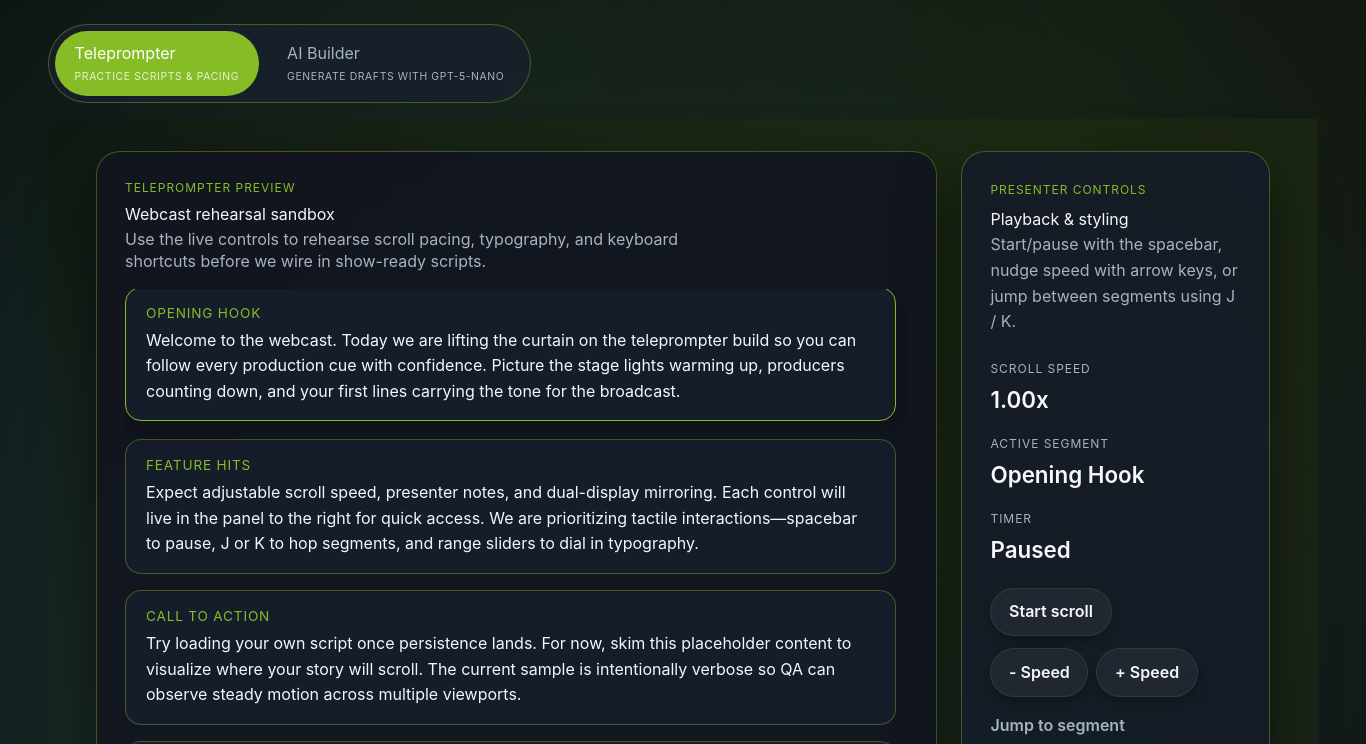
Test: App › toggles playback visual state via the start button
Click the button "Start scroll": (1051, 612) x1=990 y1=588 x2=1112 y2=636
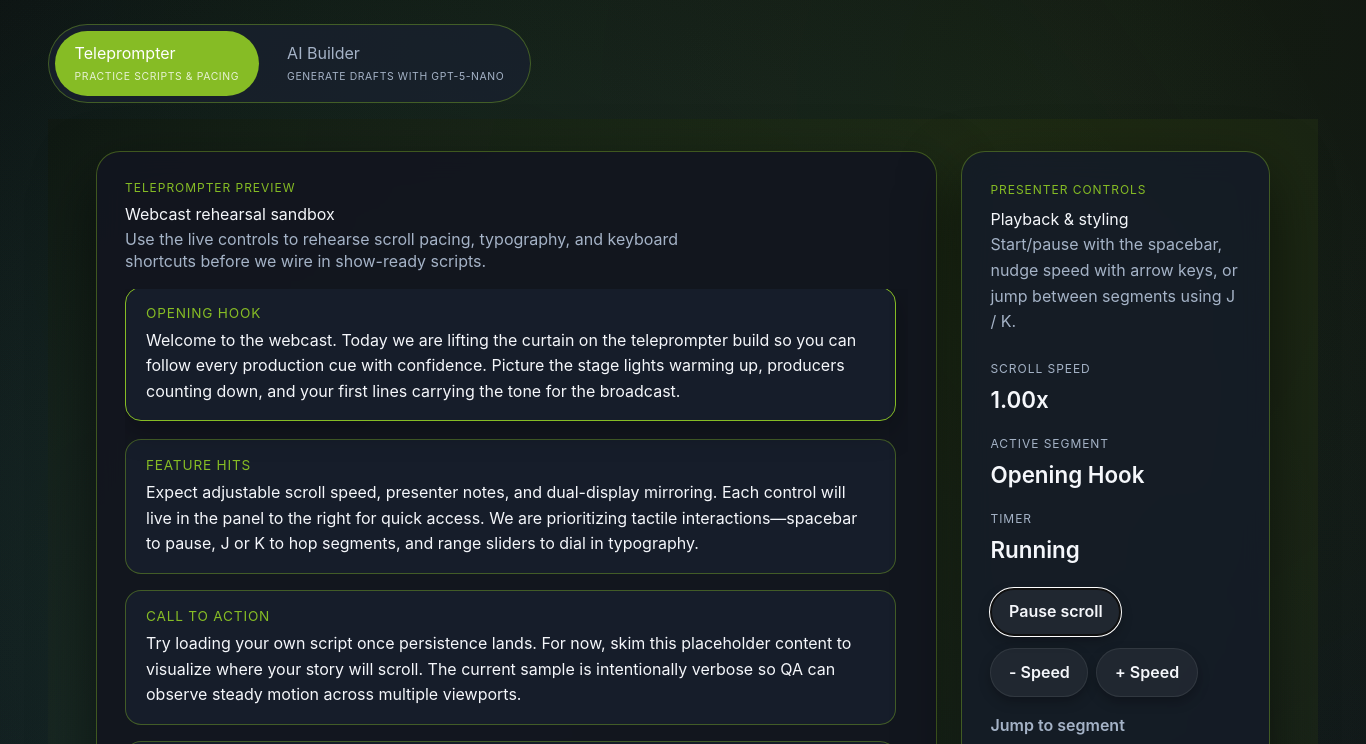
Check: the button "Pause scroll" is shown, box x1=990 y1=588 x2=1121 y2=636
